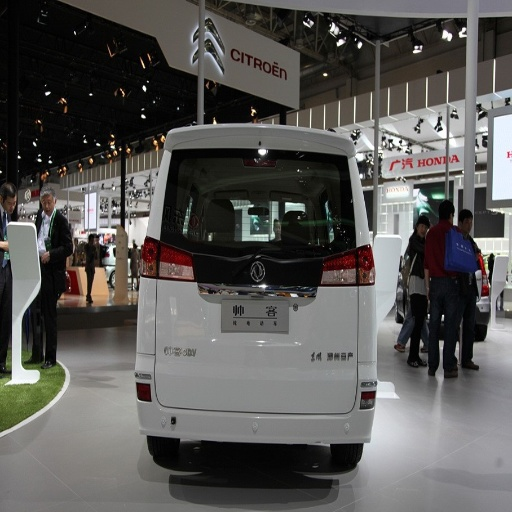back_bumper: (135, 334, 372, 481)
trunk: (151, 250, 353, 411)
